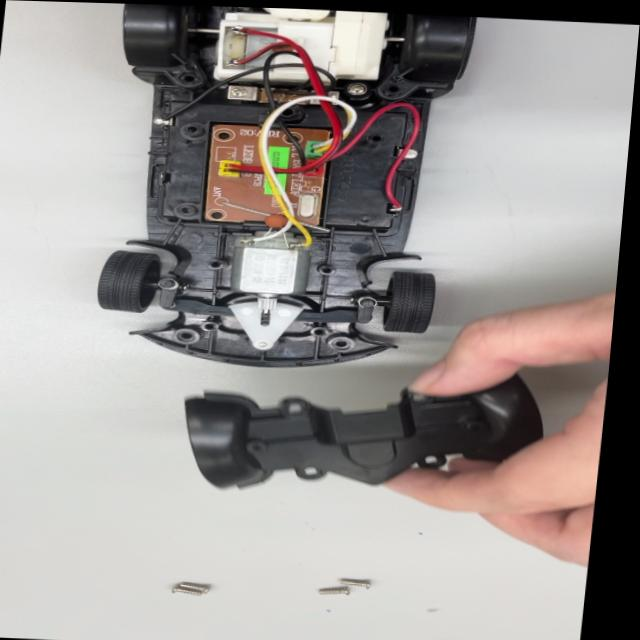Chassis: (109, 4, 438, 373)
motor: (219, 235, 307, 313)
motor_cover: (176, 366, 532, 510)
screw: (314, 581, 356, 602), (333, 571, 377, 590), (175, 574, 216, 590), (168, 585, 201, 600)
wheel: (89, 243, 179, 318), (366, 264, 445, 336)
